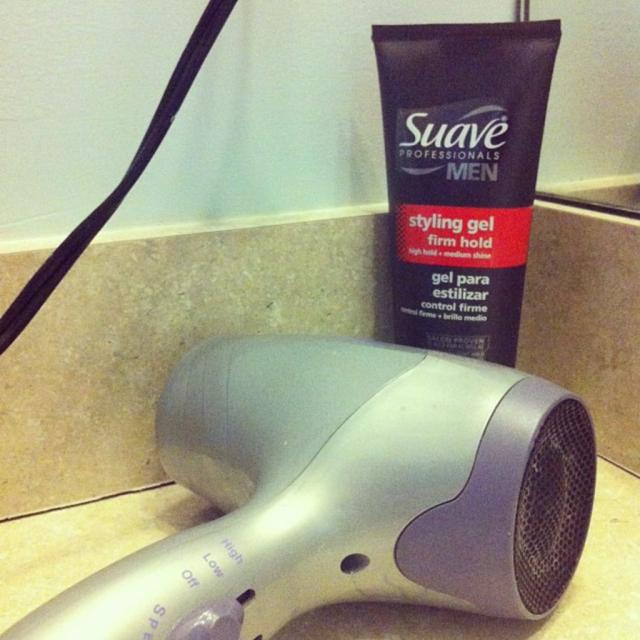dryer: (99, 308, 614, 636)
